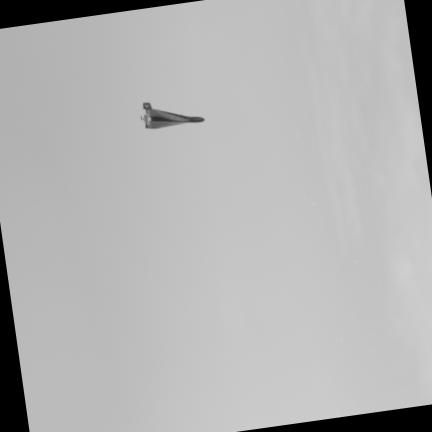Shahed: (140, 102, 203, 128)
